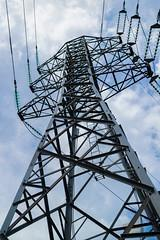power_tower: (2, 25, 160, 240)
